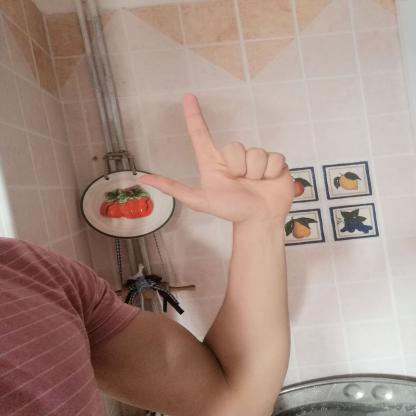LAAM: (122, 84, 304, 231)
